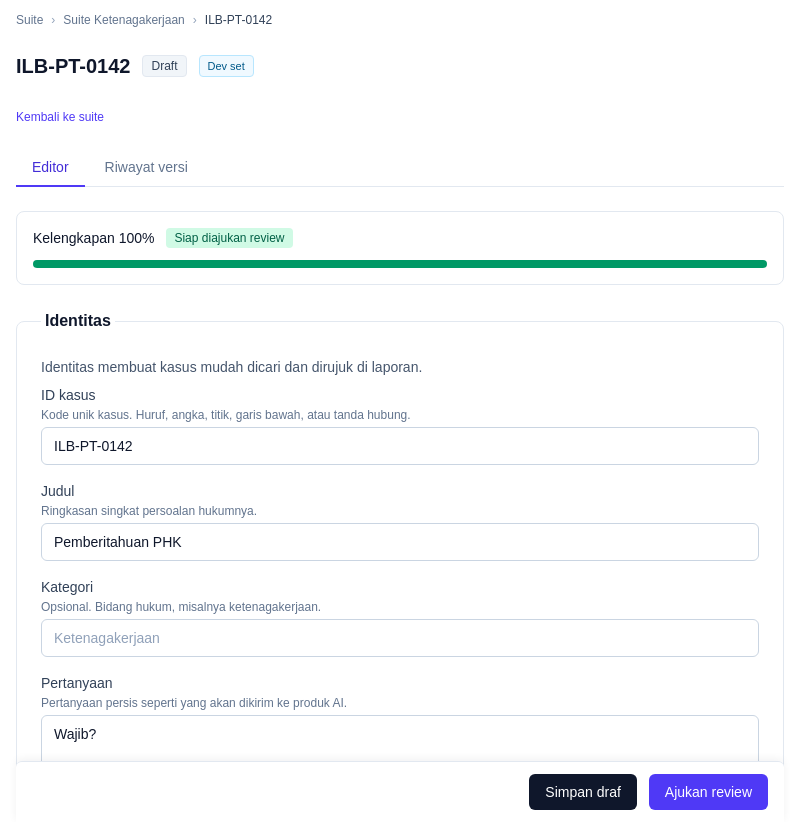
Test: EditCasePage submit for review (SCRUM-148) › holds the button while the editor has unsaved changes
Expected: the button "Ajukan review" is shown, [649,774,768,810]
In the field labelled "Judul": (400, 542) [41,523,759,561], type "!"
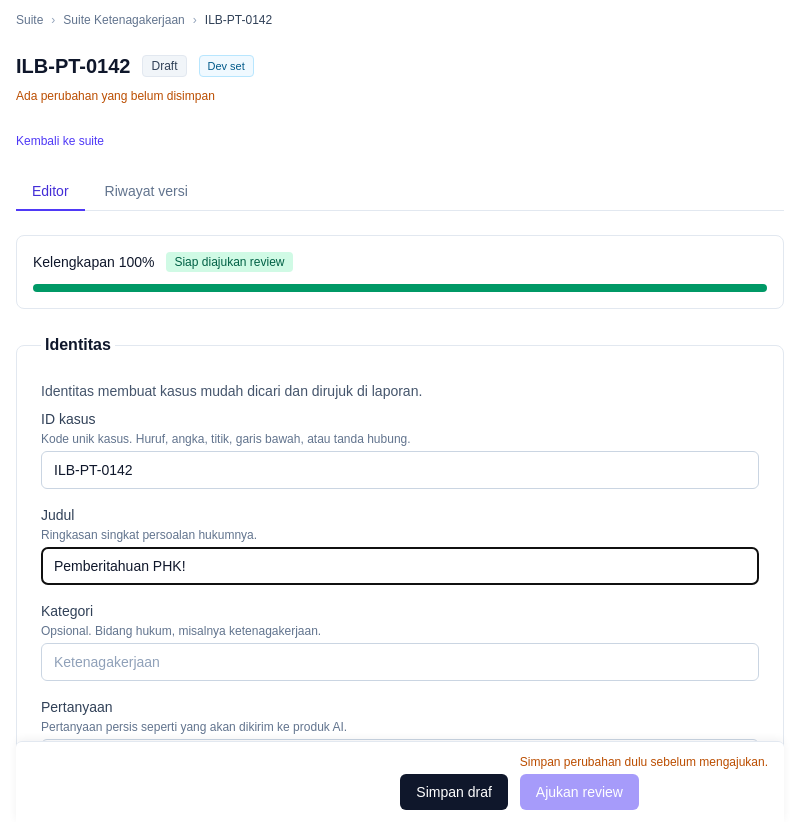
Now the text "Simpan perubahan dulu sebelum mengajukan." is shown, box [520,754,768,770]
